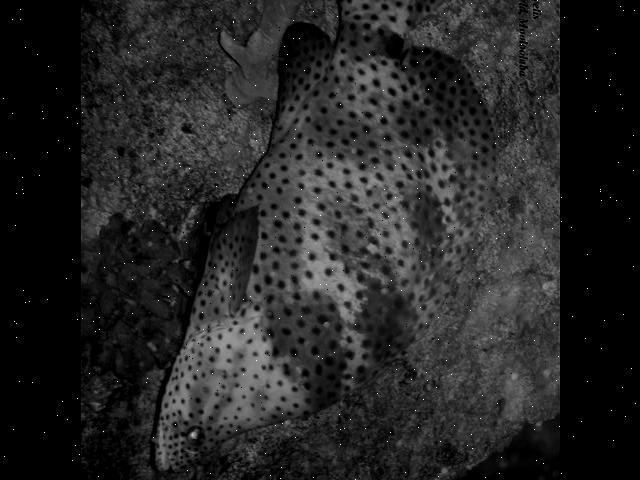Mulut: (122, 420, 202, 480)
Sirip Anal: (254, 12, 342, 125)
Sirip Dada: (186, 198, 278, 318)
Sirip Ekor: (317, 0, 478, 31)
Sirip Punggung: (386, 39, 508, 346)
